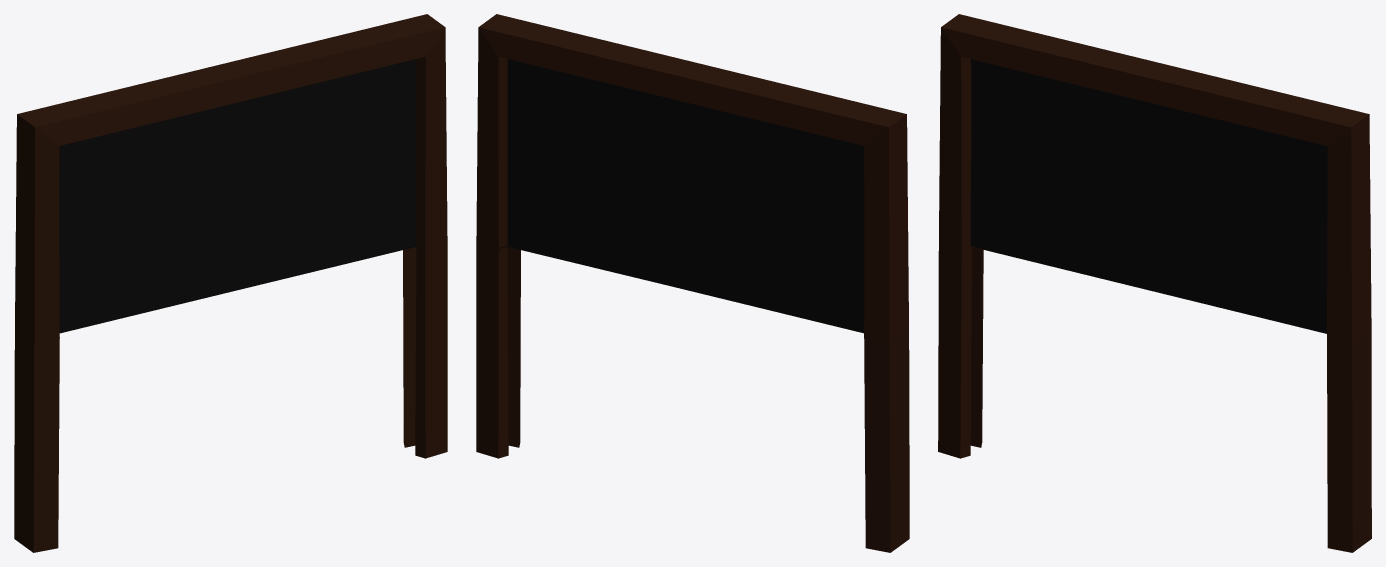
File: Heist Board.FBX
The picture shows the model from 3 angles, left to right: view 1: azimuth 30°, elevation 25°; view 2: azimuth 150°, elevation 25°; view 3: azimuth 330°, elevation 25°; orthographic projection.
Visible parts, largest first — view 1: Heist Board; view 2: Heist Board; view 3: Heist Board.
Boxes of the visible parts, bbox=[...] form: Heist Board: bbox=[14, 14, 447, 552]; Heist Board: bbox=[476, 14, 909, 552]; Heist Board: bbox=[938, 14, 1371, 552].
Size of the model in its own units: 1.04 by 1.02 by 0.0973.
